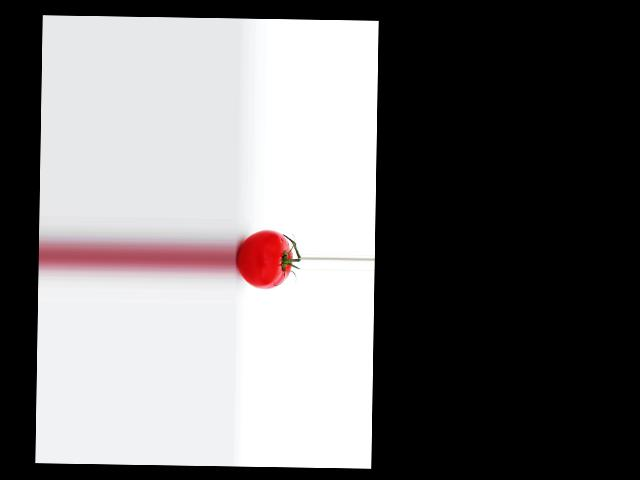tomato: (236, 230, 292, 290)
